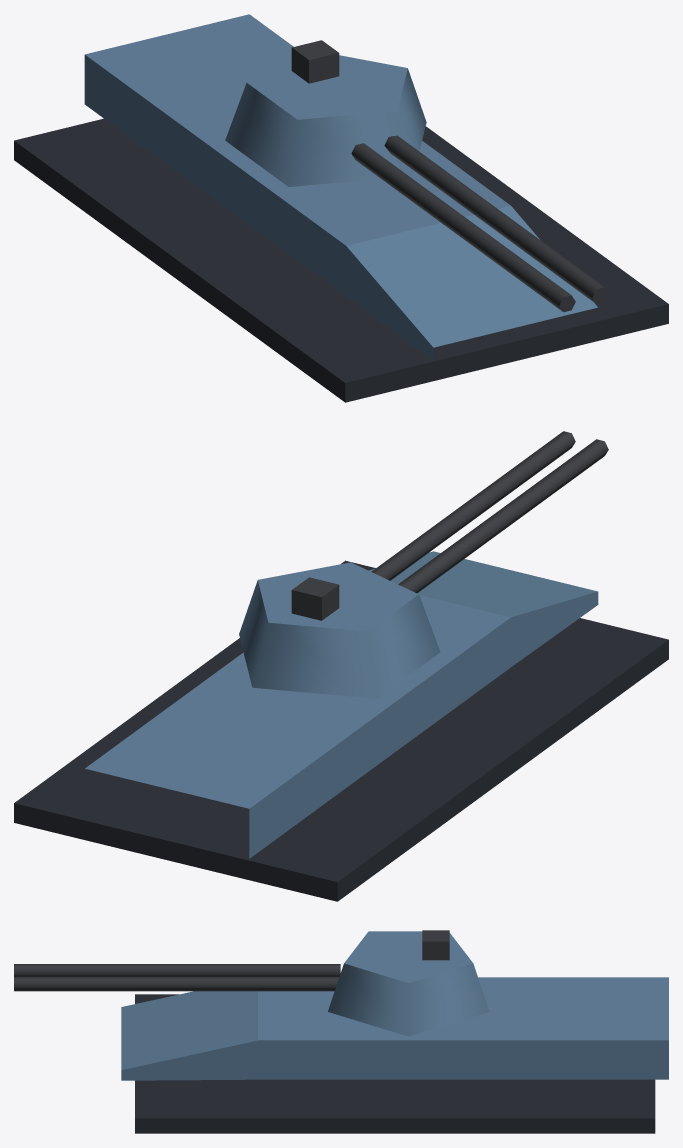
The model's file is veh_ground_tank_heavy_a10_lod1.glb.
3 views of the same model, one above another, from view 1: azimuth 30°, elevation 25°; view 2: azimuth 150°, elevation 25°; view 3: azimuth 270°, elevation 25° (orthographic). The views are drawn at different scales.
Parts seen in each view (by area): view 1: body, turret; view 2: body, turret; view 3: body, turret.
Part boxes in pixels (x1,y1,x2,y2): body: (14, 14, 668, 402); turret: (225, 55, 608, 312); body: (14, 551, 668, 901); turret: (239, 431, 608, 698); body: (121, 930, 668, 1133); turret: (14, 931, 489, 1036).
Size of the model in its own units: 4.31 by 2.25 by 9.63.
